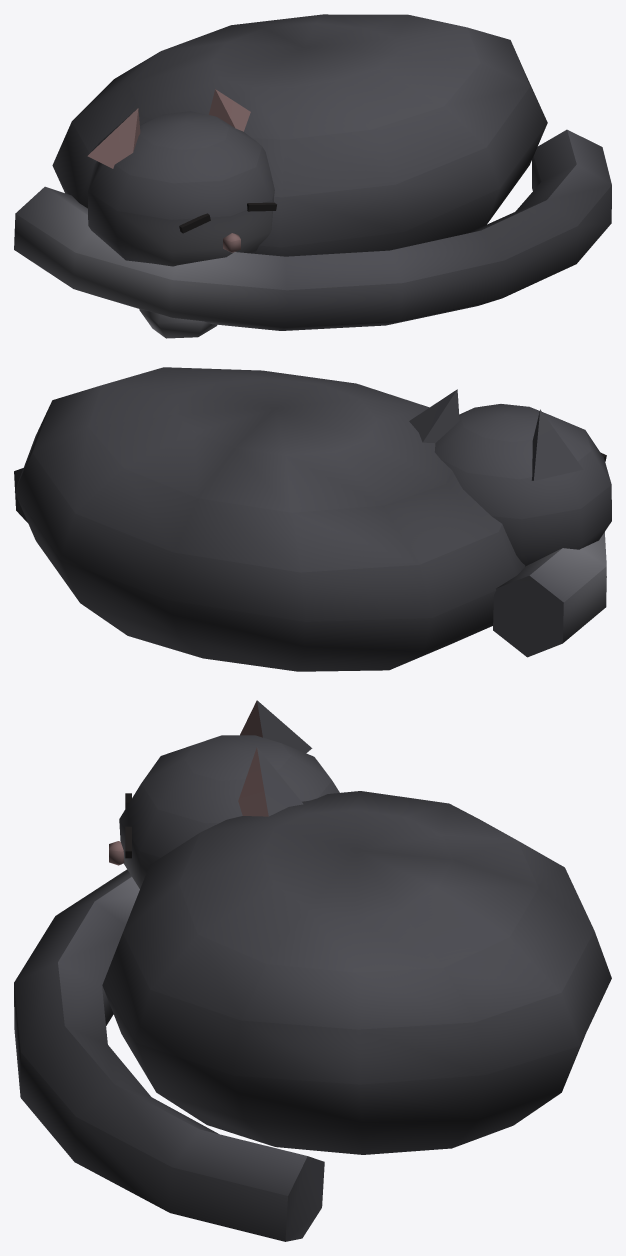
The model's file is ph_int_cat.glb.
3 views of the same model, one above another, from view 1: azimuth 30°, elevation 25°; view 2: azimuth 150°, elevation 25°; view 3: azimuth 270°, elevation 25° (orthographic). The views are drawn at different scales.
Parts seen in each view (by area): view 1: ph_int_cat; view 2: ph_int_cat; view 3: ph_int_cat.
Part boxes in pixels (left/top/right/bottom): ph_int_cat: left=14, top=14, right=611, bottom=338; ph_int_cat: left=14, top=367, right=611, bottom=671; ph_int_cat: left=14, top=700, right=611, bottom=1241.
Bounding box in the file's own units: 0.4636 × 0.1793 × 0.3501.
